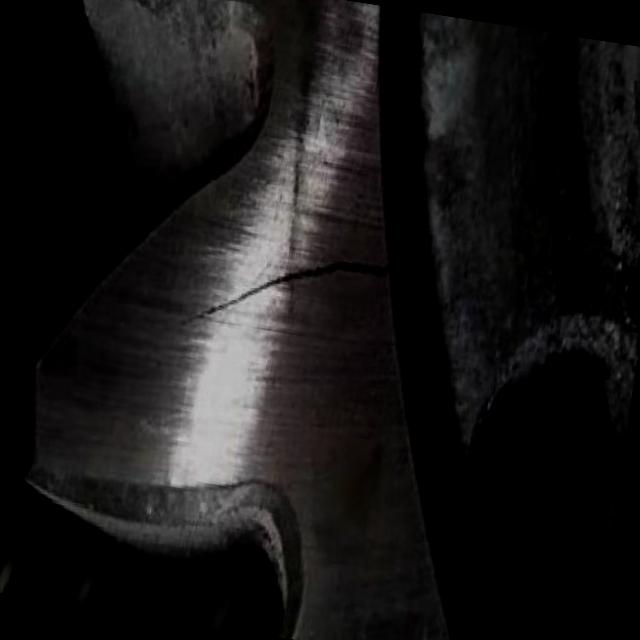crack: (178, 254, 405, 333)
